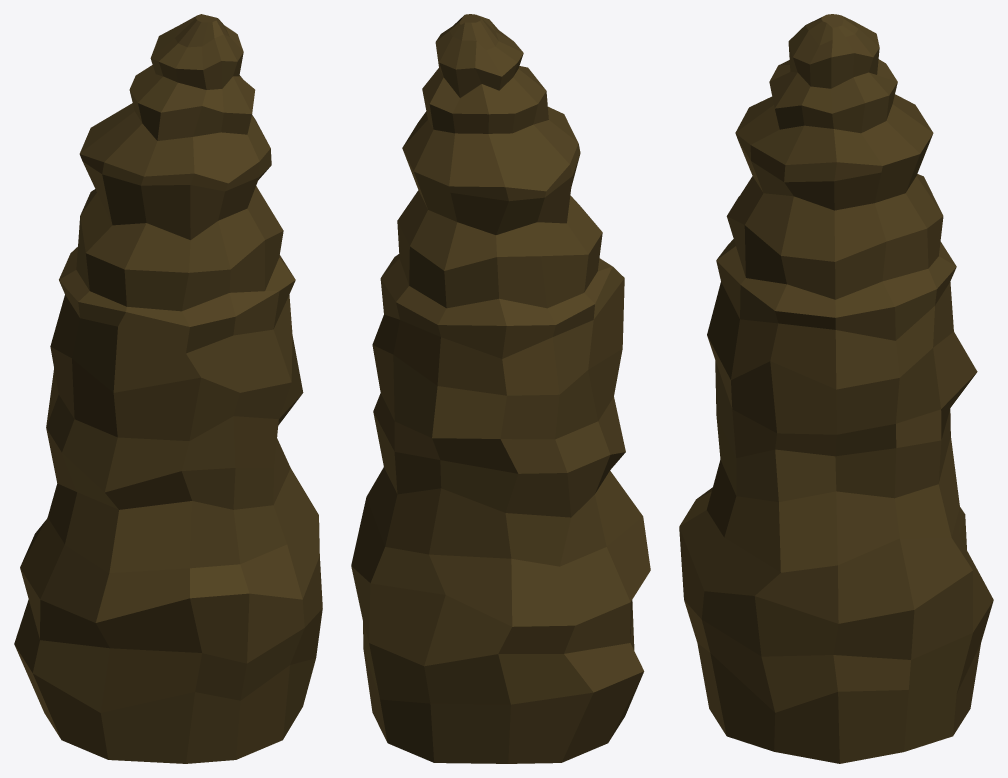
The model's file is Stalagmiten_4.fbx.
The picture shows the model from 3 angles, left to right: view 1: azimuth 30°, elevation 25°; view 2: azimuth 150°, elevation 25°; view 3: azimuth 270°, elevation 25°; orthographic projection. The views are drawn at different scales.
Visible parts, largest first — view 1: Cylinder; view 2: Cylinder; view 3: Cylinder.
Boxes of the visible parts, x1=… form: Cylinder: x1=14, y1=14, x2=322, y2=763; Cylinder: x1=351, y1=14, x2=650, y2=763; Cylinder: x1=679, y1=14, x2=993, y2=763.
Size of the model in its own units: 28.61 by 69.13 by 27.92.
